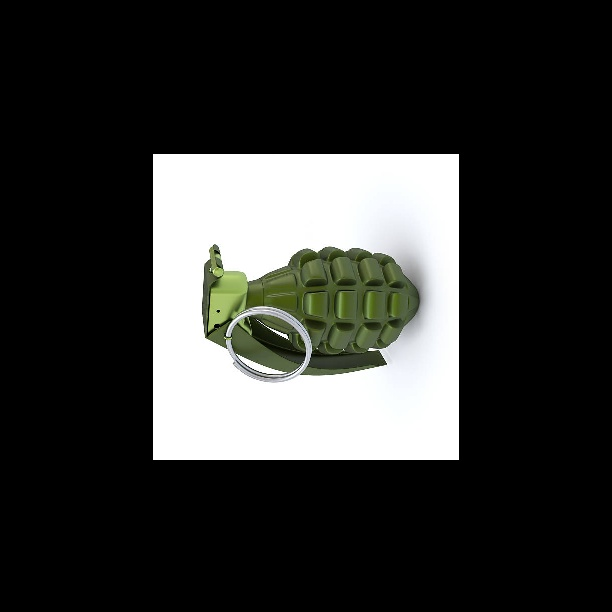e1: (200, 239, 423, 379)
